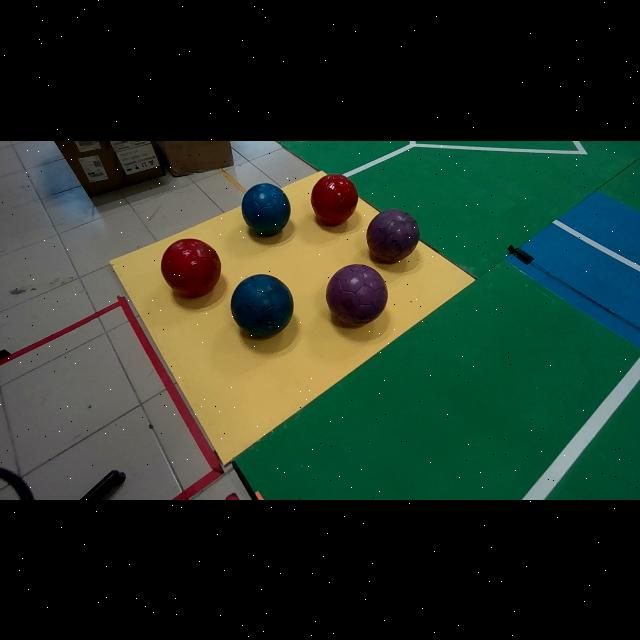B: (231, 274, 293, 337), (242, 182, 290, 235)
P: (326, 264, 388, 325), (366, 208, 420, 261)
R: (161, 238, 220, 296), (311, 172, 358, 224)
